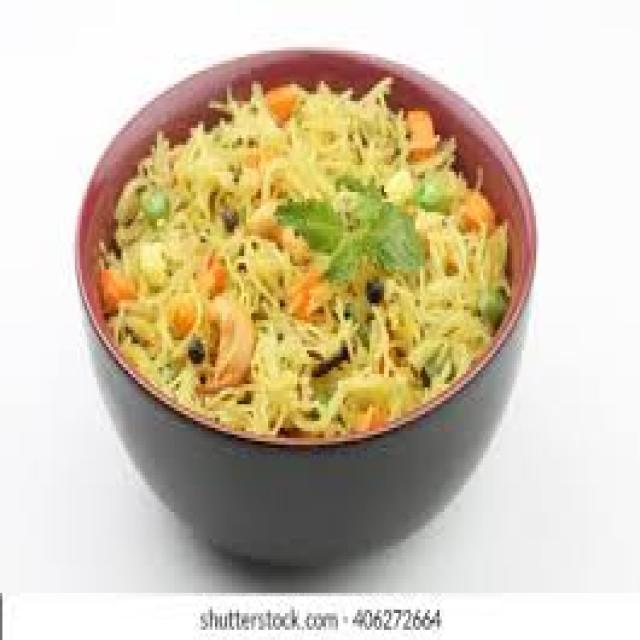POHA: (99, 81, 505, 428)
